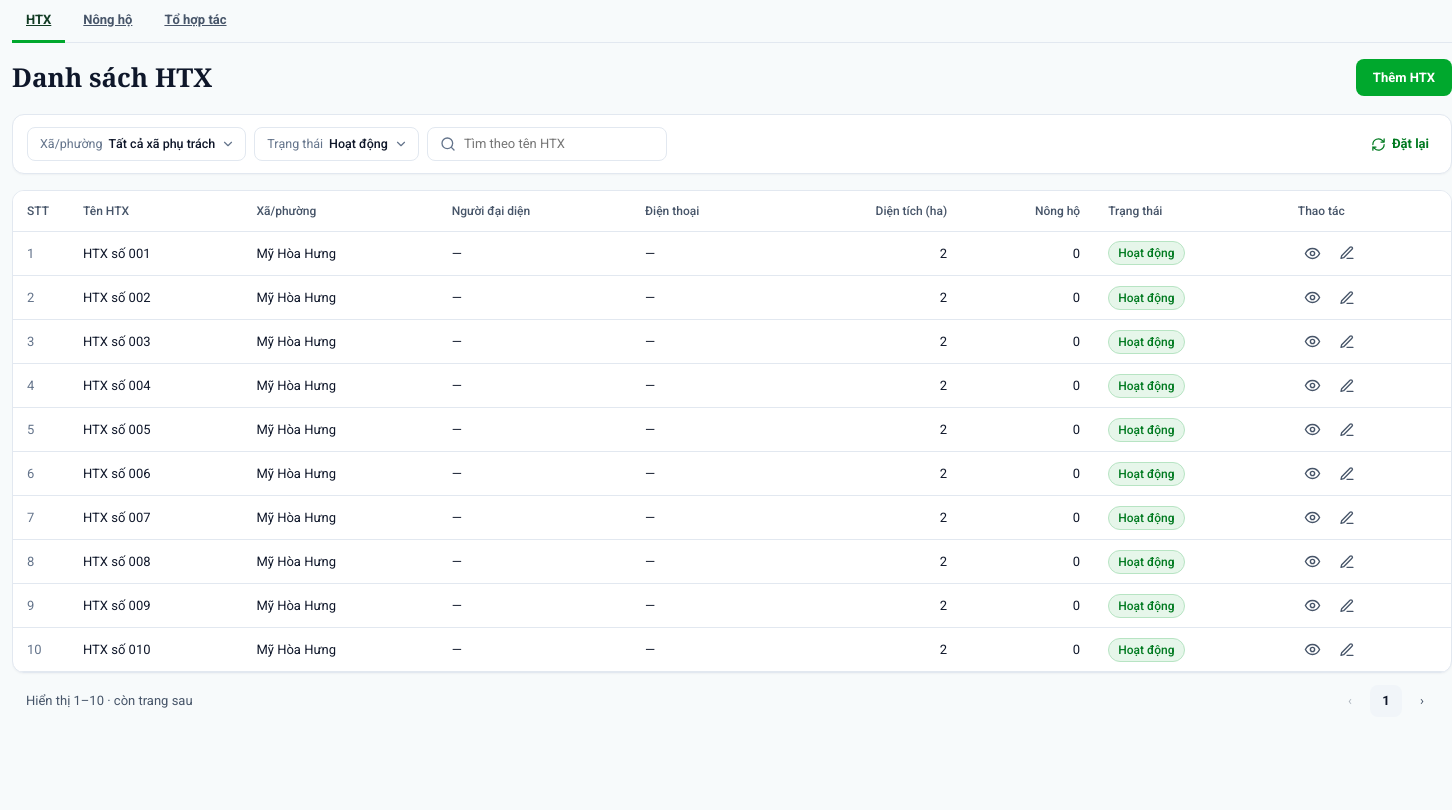
Test: #67 phân trang máy chủ theo con trỏ › 51 HTX: đi tới trang 6 thấy hồ sơ thứ 51 (gửi cursor), Trang sau tắt ở trang cuối; Trang trước quay lại
Check: the text "HTX số 001" is shown, box 69,232 -> 242,276
Click the button named "Trang sau": (1422, 701) 1406,685 -> 1438,717
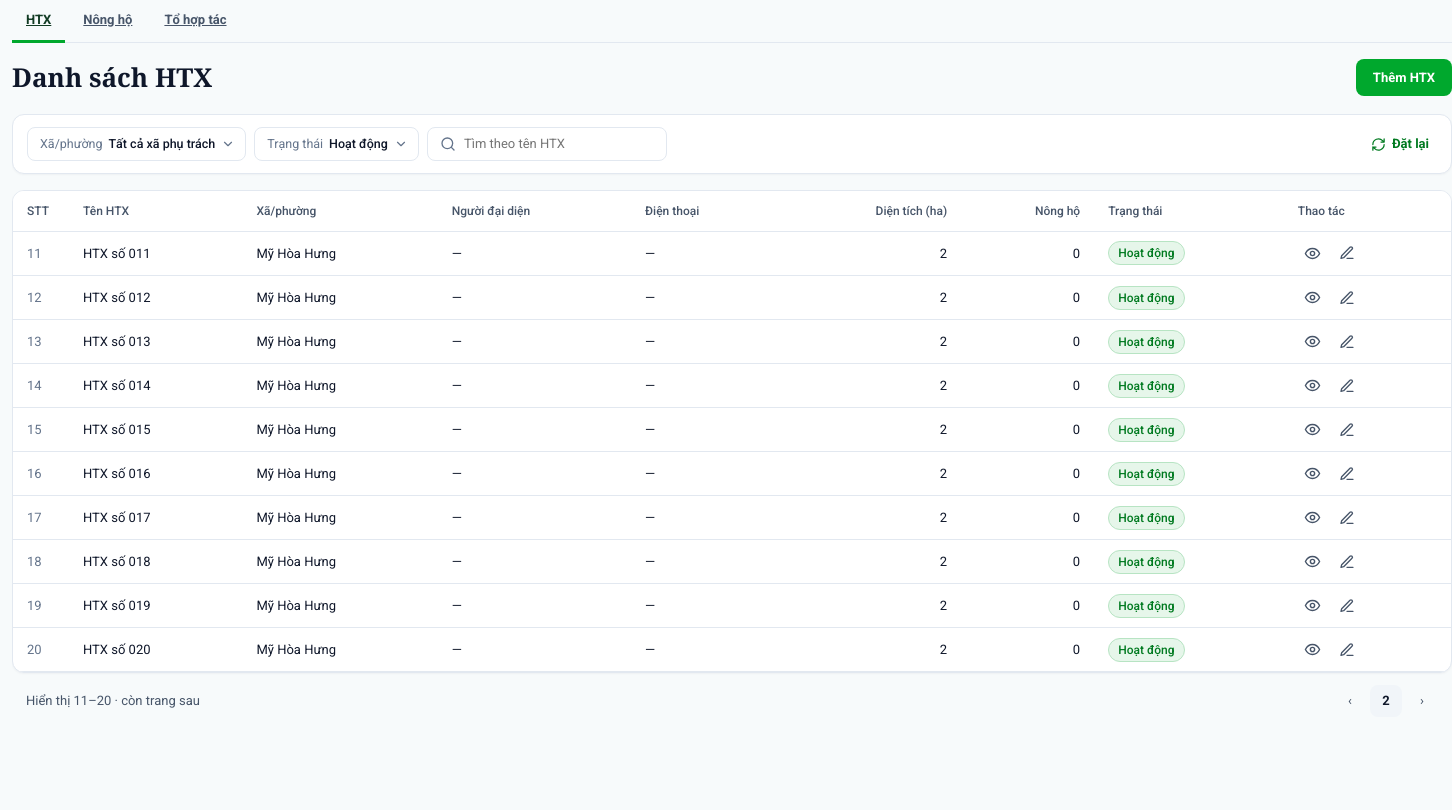
Check: the text "HTX số 011" is shown, box 69,232 -> 242,276
Click the button named "Trang sau": (1422, 701) 1406,685 -> 1438,717
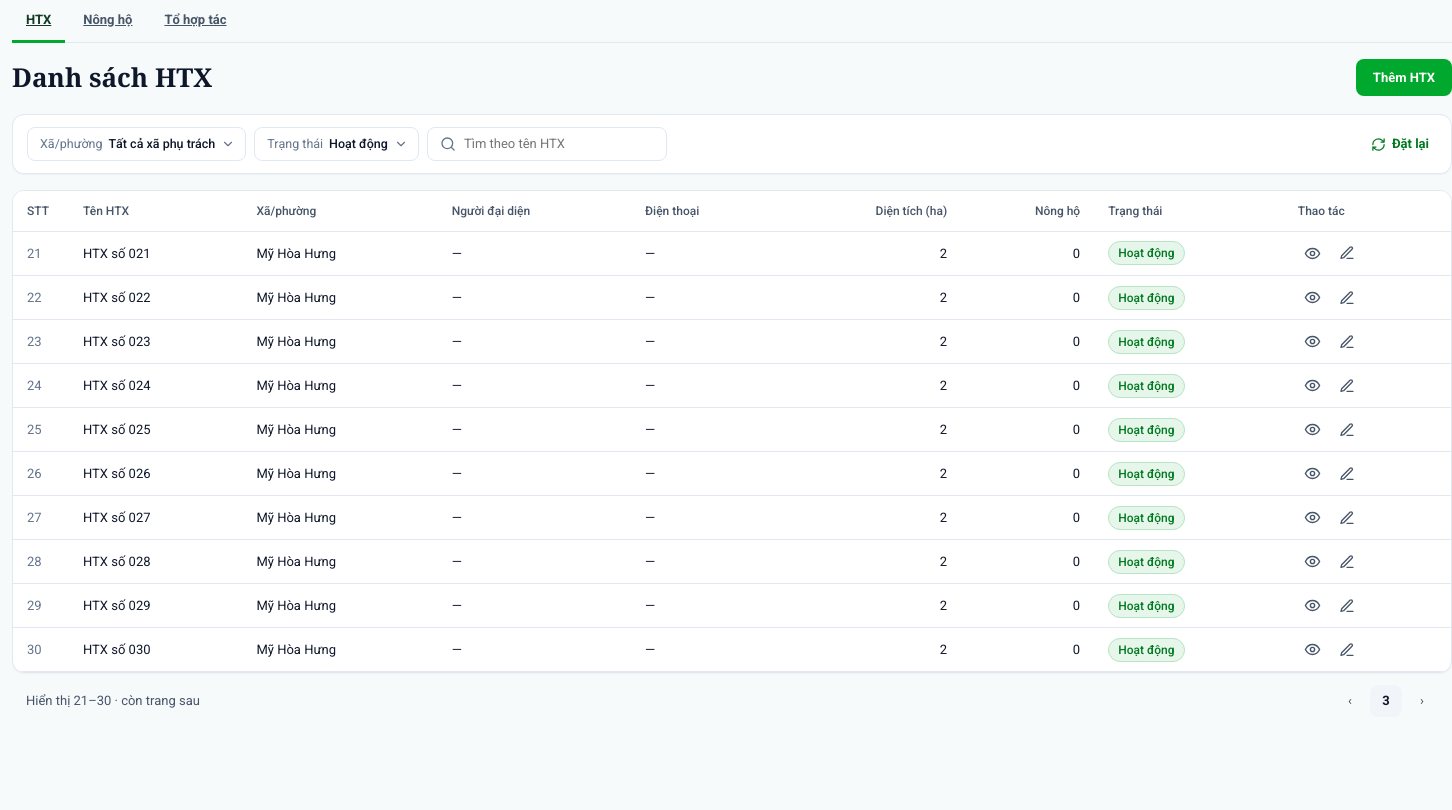
Click the button named "Trang sau": (1422, 701) 1406,685 -> 1438,717
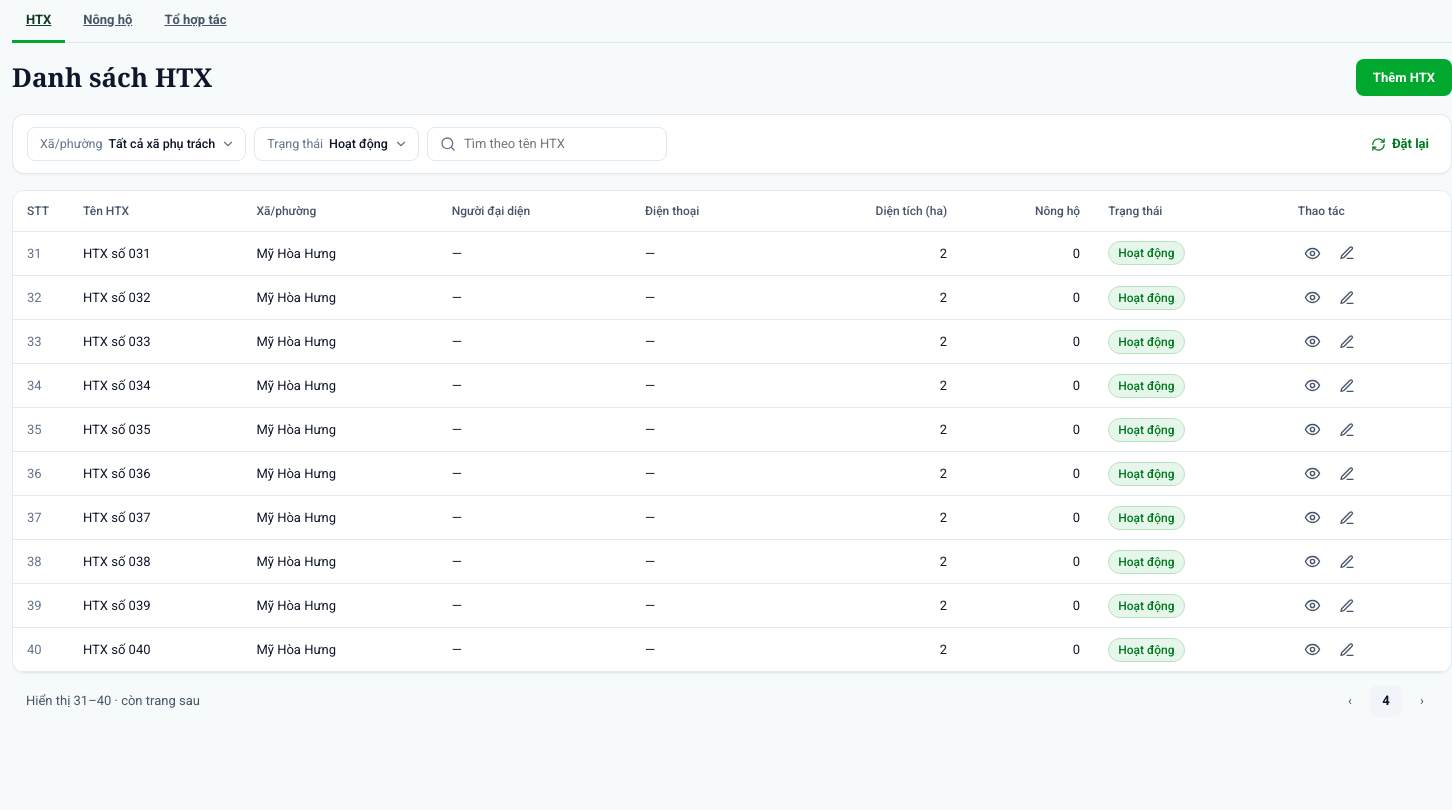
Click the button named "Trang sau": (1422, 701) 1406,685 -> 1438,717
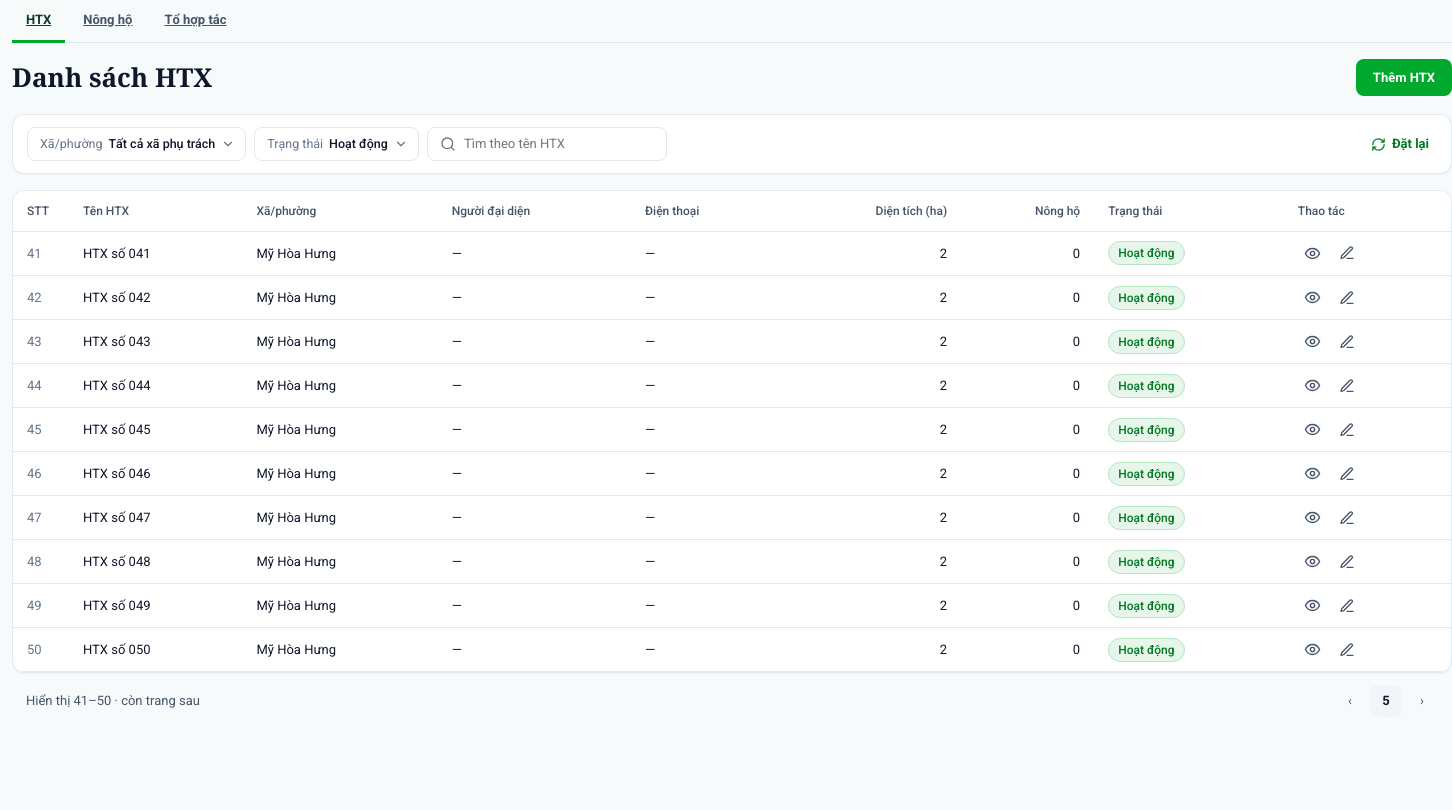
Click the button named "Trang sau": (1422, 701) 1406,685 -> 1438,717
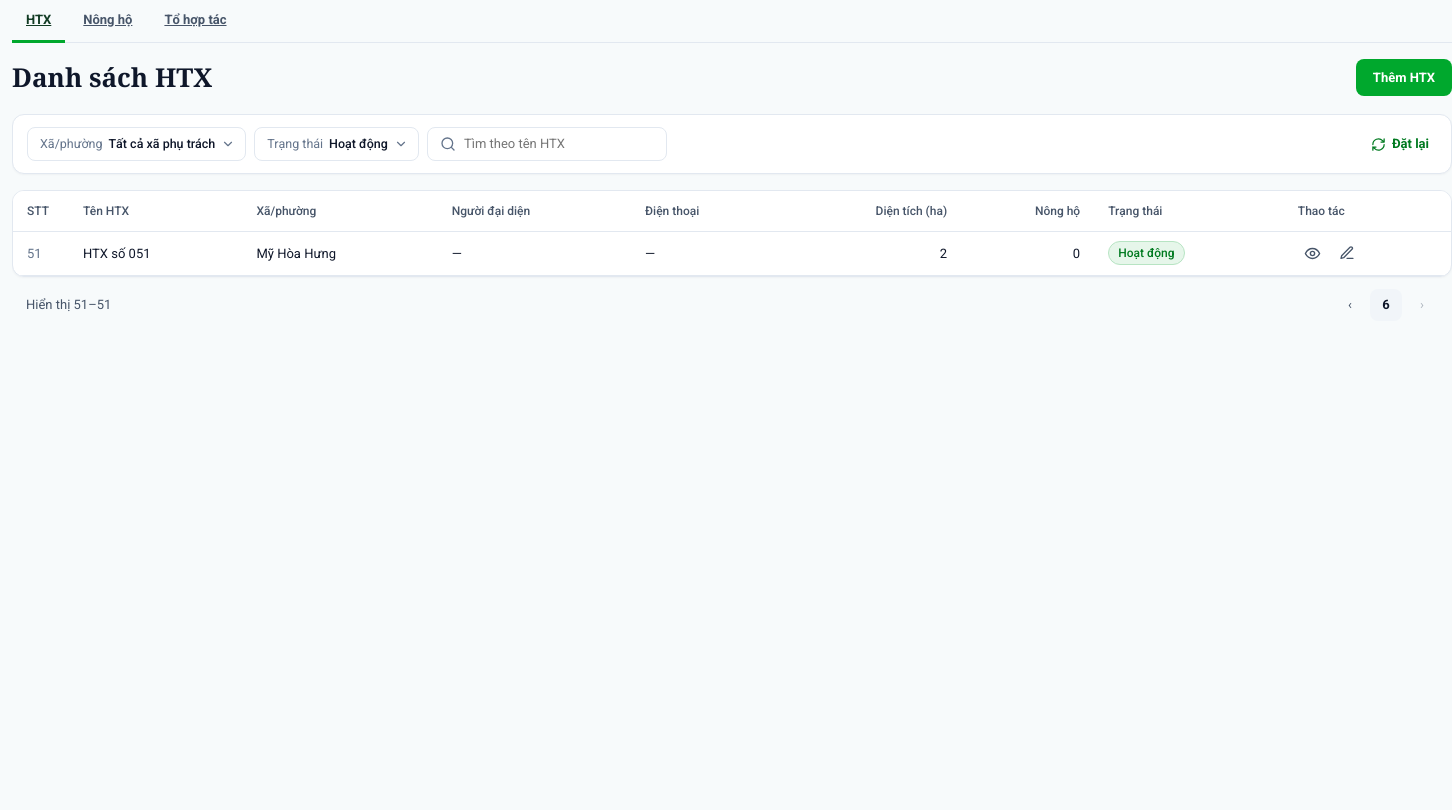
Check: the text "HTX số 051" is shown, box 69,232 -> 242,276
Check: the text "HTX số 050" is gone
Check: the text "51" is shown, box 13,232 -> 69,276
Click the button named "Trang trước": (1350, 305) 1334,289 -> 1366,321
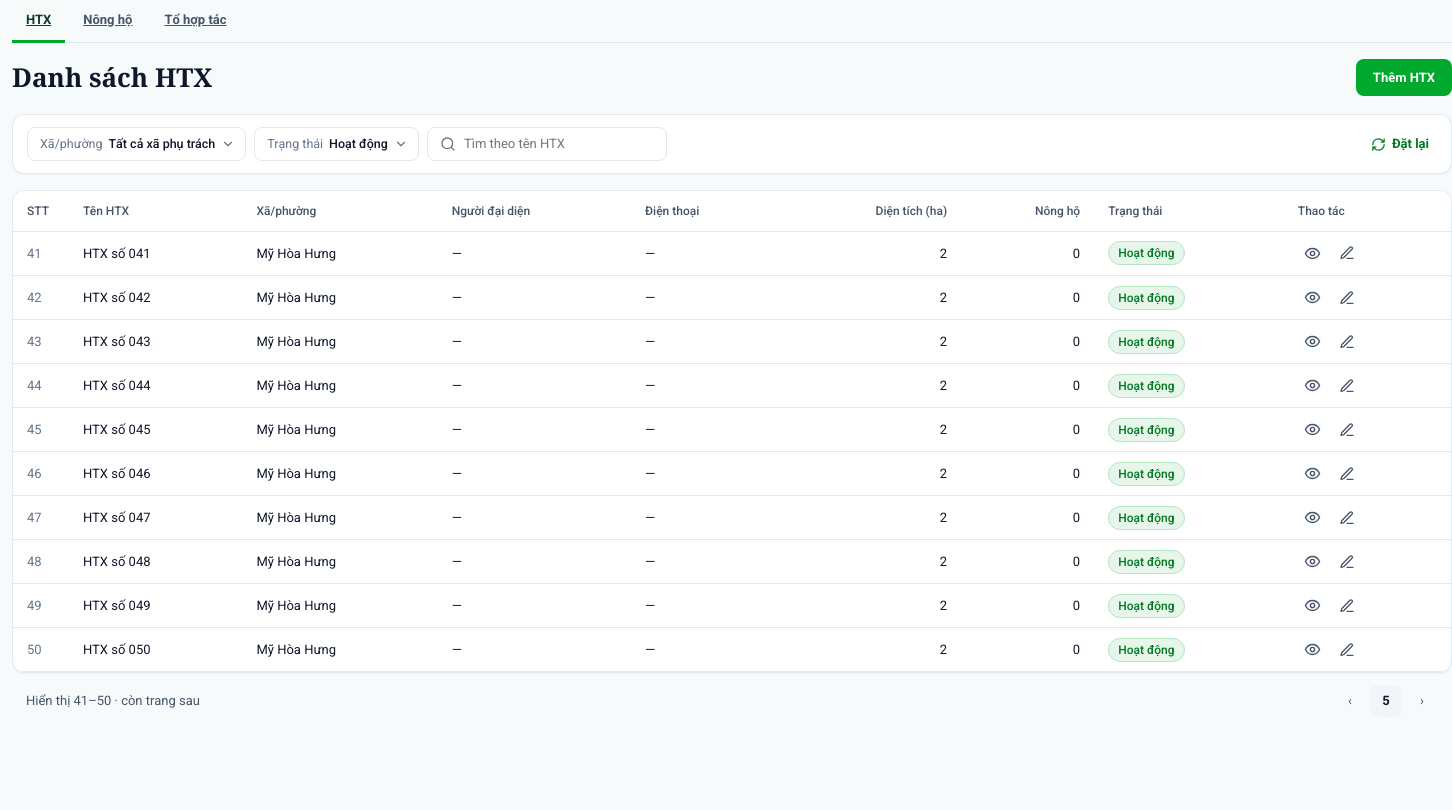
Check: the text "HTX số 050" is shown, box 69,628 -> 242,672
